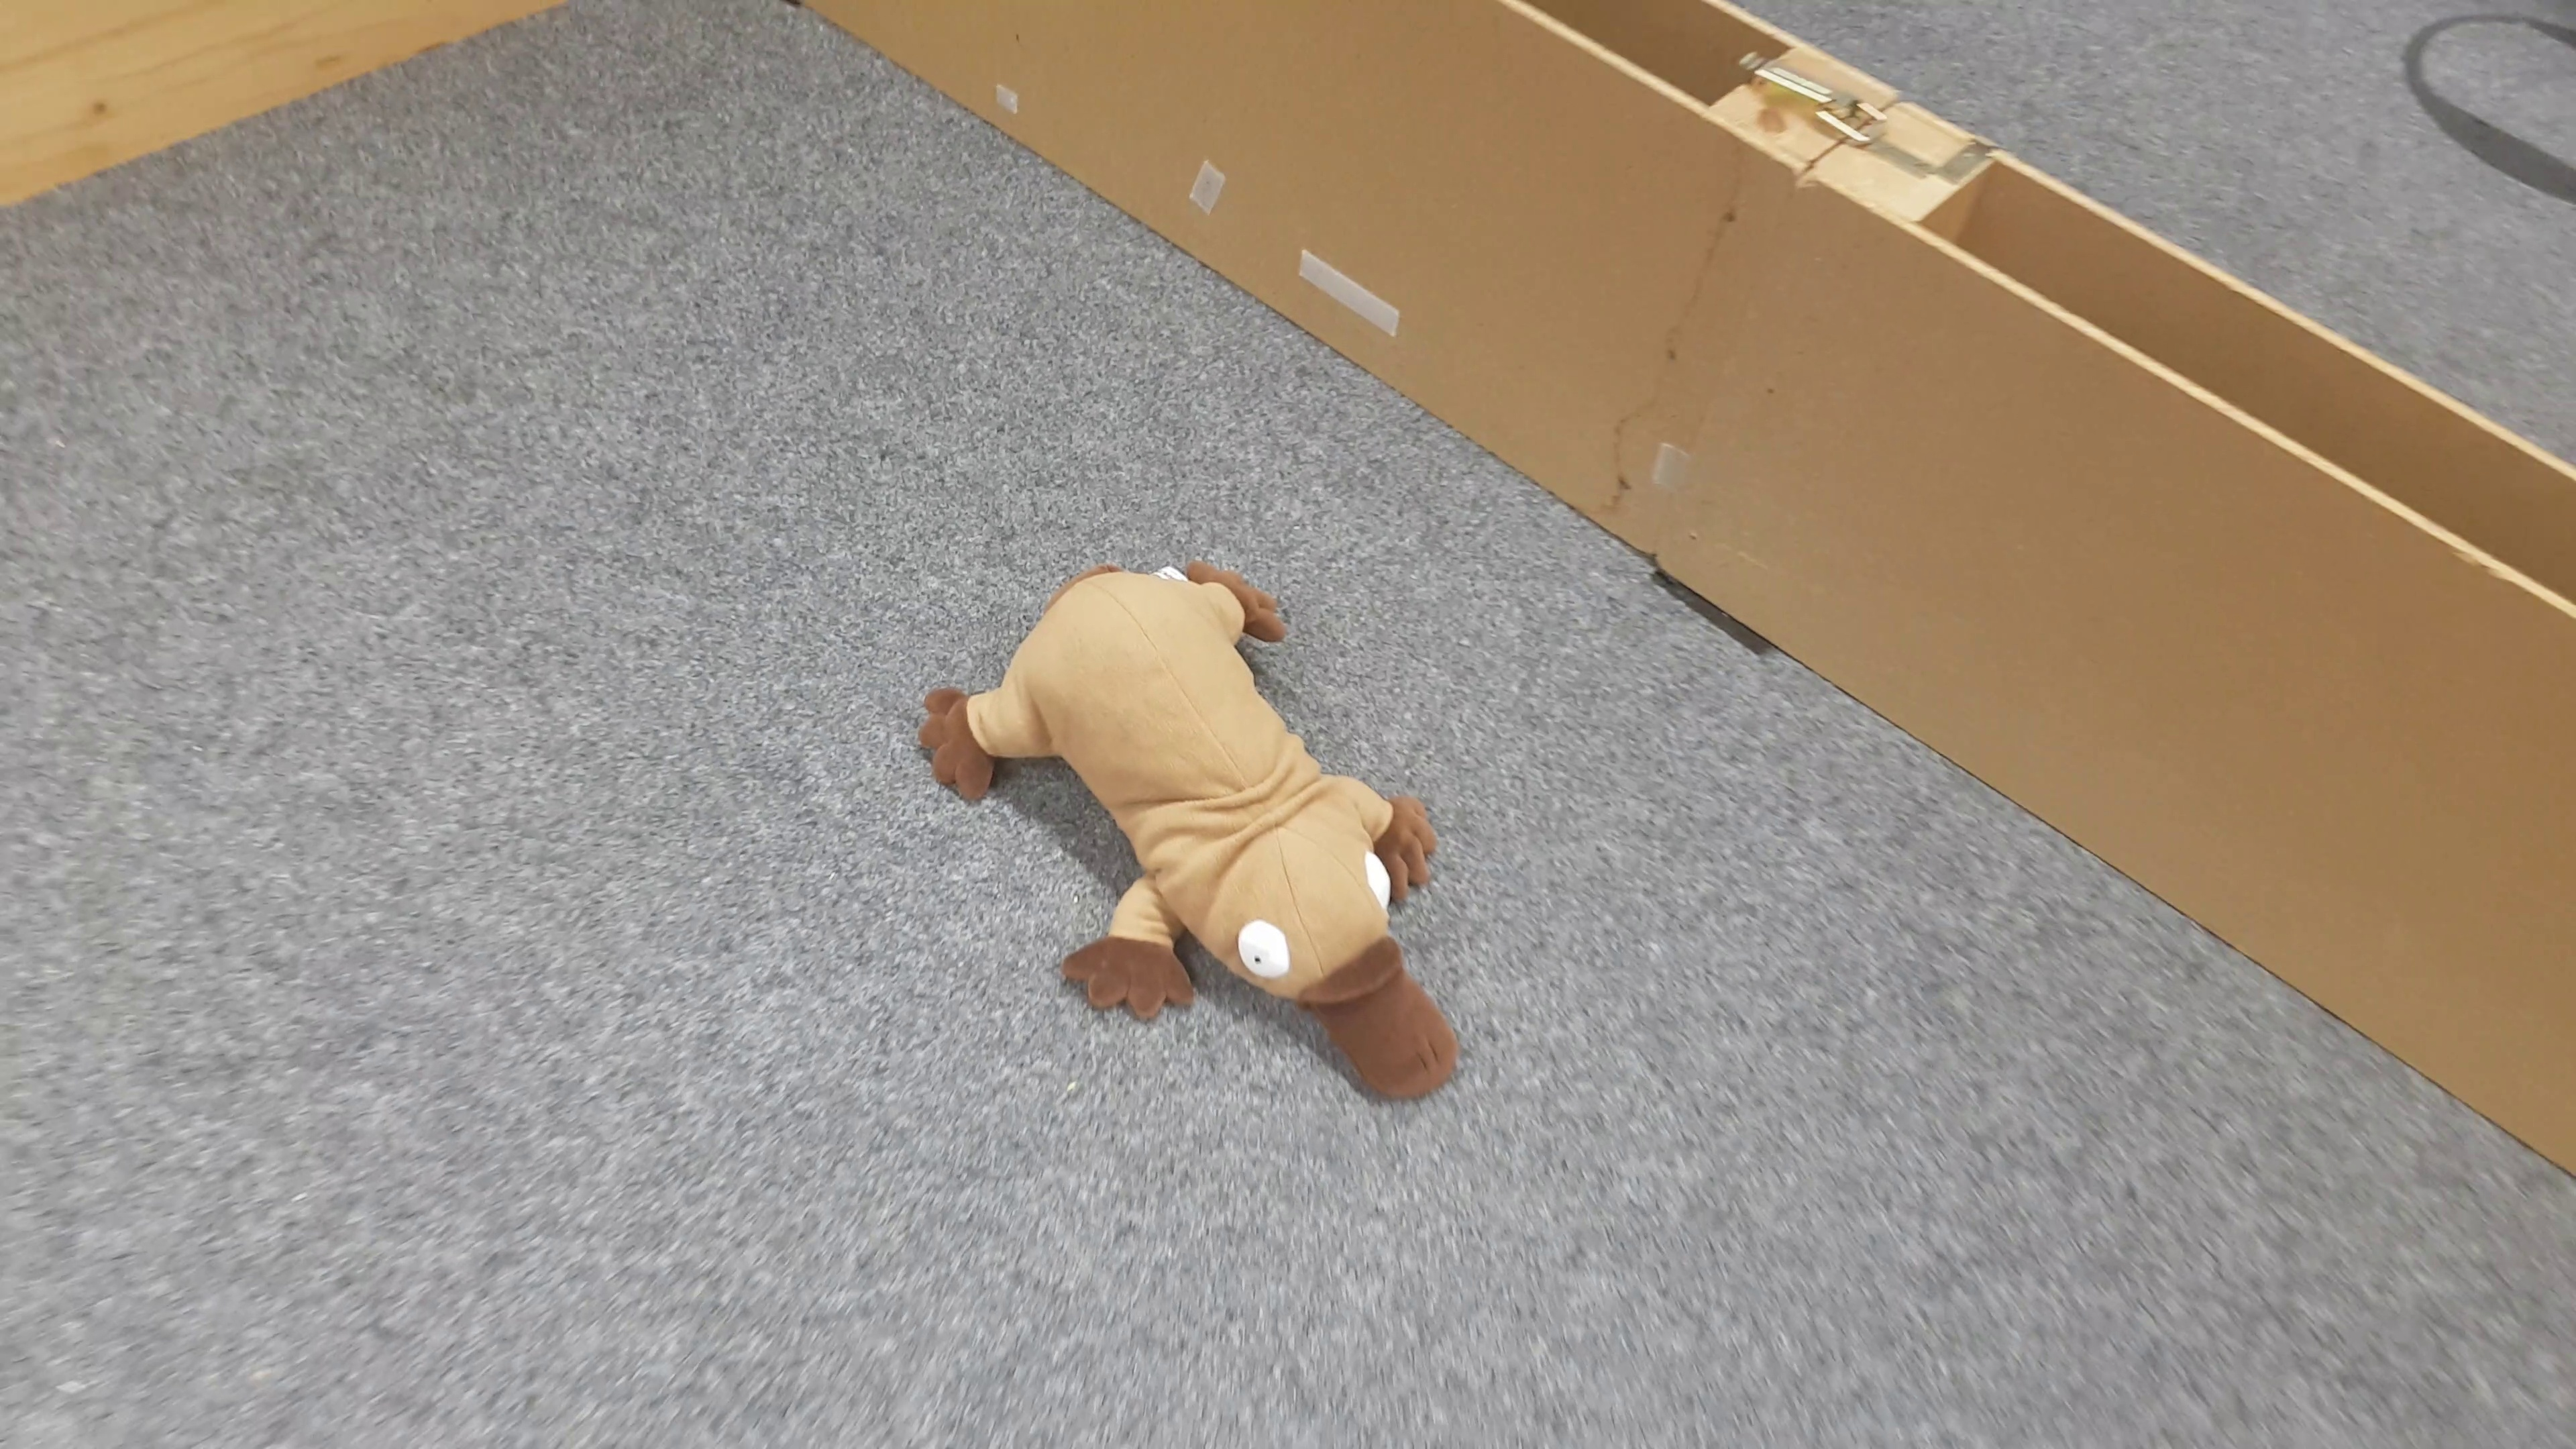grasp: (902, 550, 1465, 1092)
